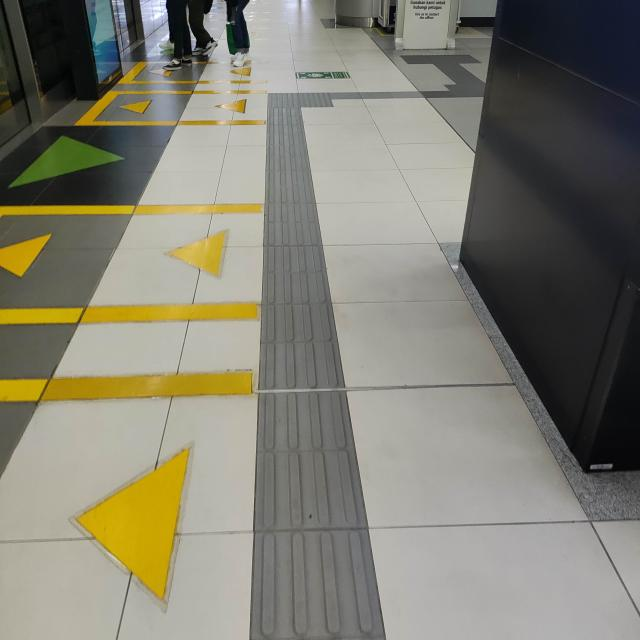kanan: (254, 82, 375, 116)
